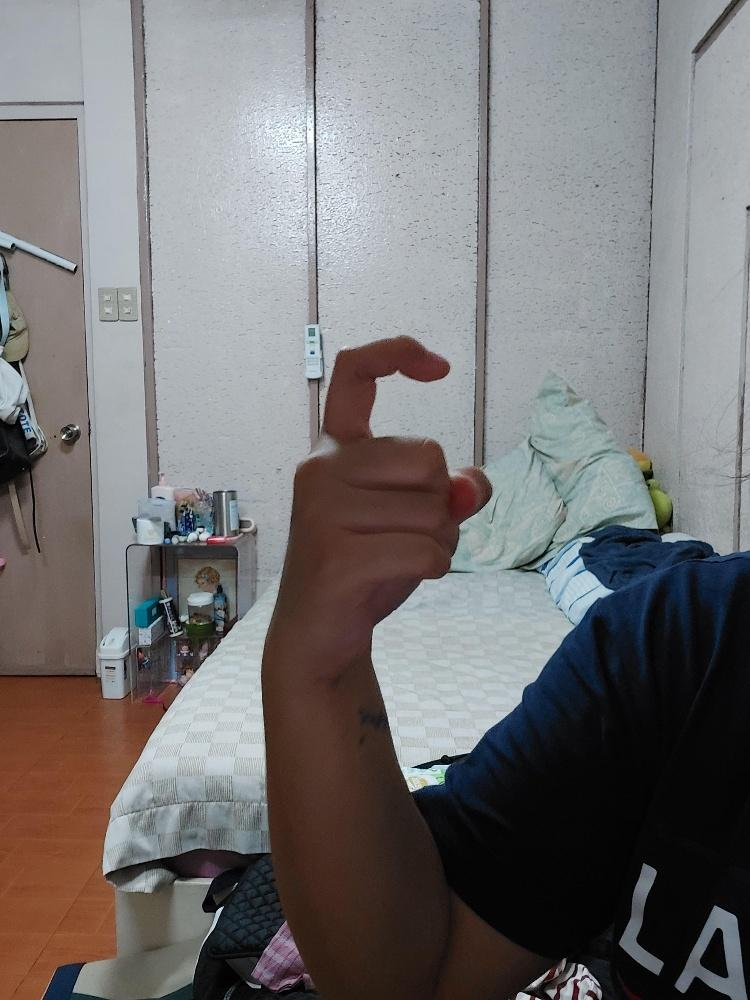x: (260, 332, 493, 684)
